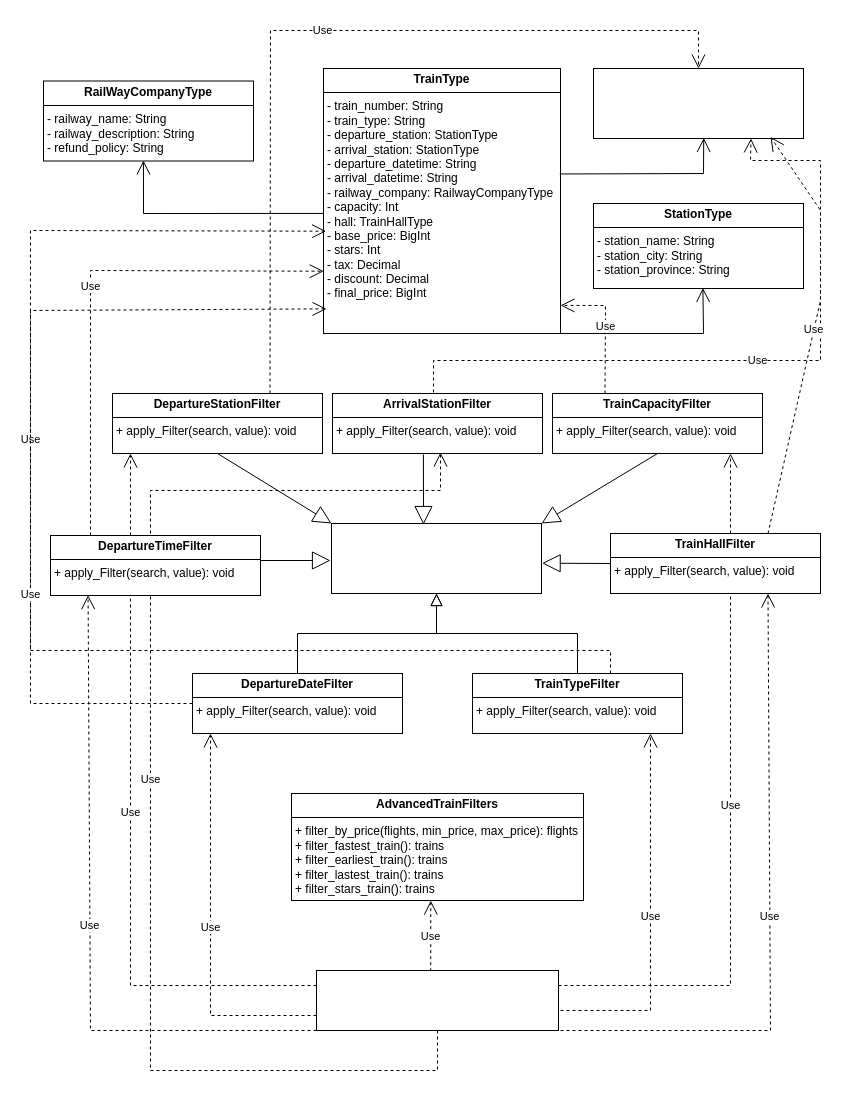
This 852x1102 diagram has some shape labels left out. Here are the shapes that lost their labels. From the top down, the centre of each, then its label:
(698,103): TrainHallType - hall_name: String - hall_description: String
(436,558): << abstract >> FilterStrategy + apply_Filter(search, value): void
(437,1000): TrainsQuery + resolve_trains(): trains, railway_names, ...
